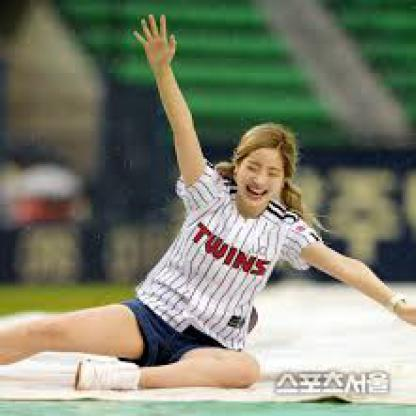Fall_Down: (1, 10, 413, 392)
